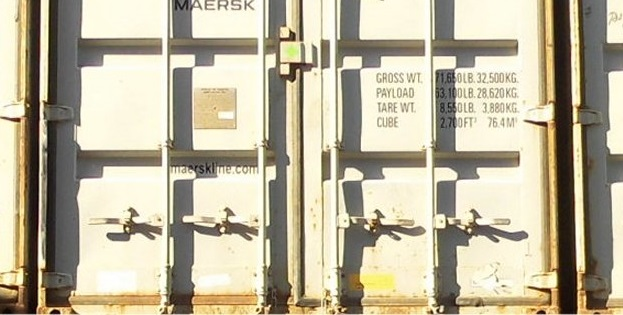container_door: (35, 1, 564, 315)
